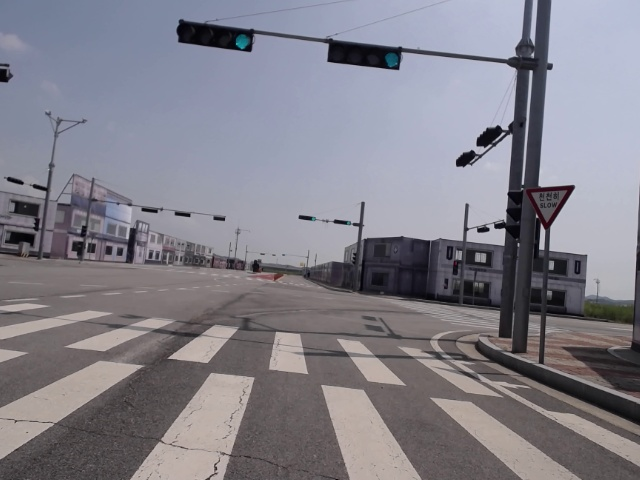straight_green_4: (180, 21, 254, 50), (328, 41, 401, 68), (334, 219, 351, 225), (298, 216, 316, 221)
